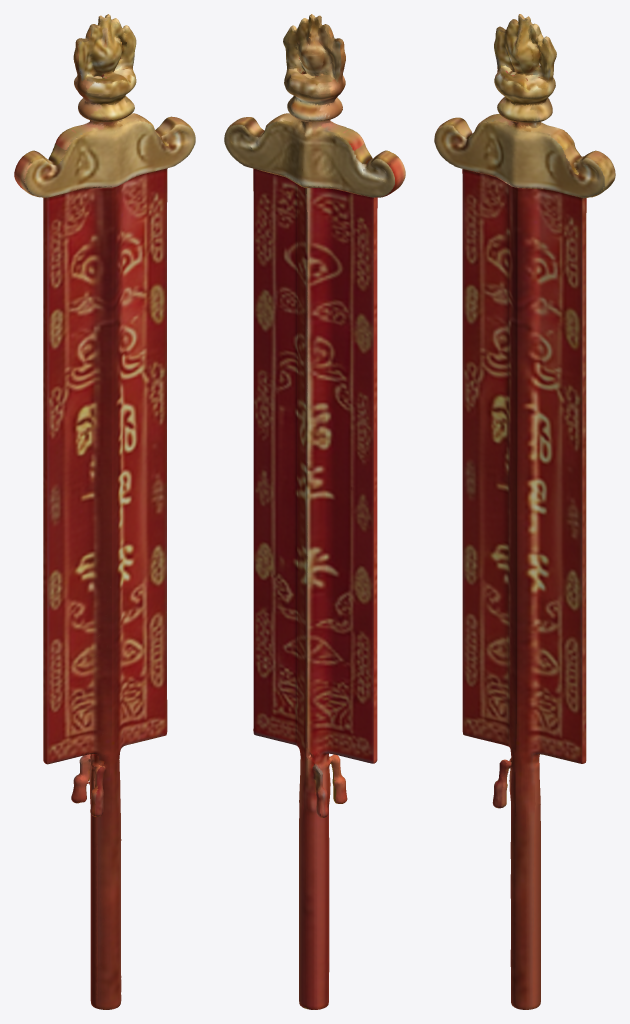
The model's file is sutra-pole_textured.glb.
3 views of the same model, side by side, from view 1: azimuth 30°, elevation 25°; view 2: azimuth 150°, elevation 25°; view 3: azimuth 330°, elevation 25° (orthographic).
Parts seen in each view (by area): view 1: geometry_0; view 2: geometry_0; view 3: geometry_0.
Boxes of the visible parts, box(x1,y1,x2,y2) form: geometry_0: box(14, 14, 195, 1009); geometry_0: box(224, 14, 405, 1009); geometry_0: box(434, 14, 615, 1009).
Bounding box in the file's own units: 0.2202 × 1.2 × 0.0599.
Materials: 1 (1 with a texture image).
